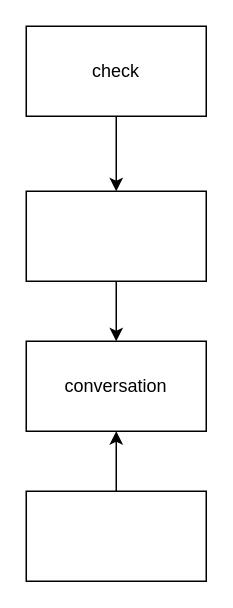
Some shapes in this 233 by 608 pixel diagram are drawn without their labels. The shapes that lost their labels are listed below. From the top down, each one's centre as x and y in pixels, then its label:
At [115,235]: "bot".
At [115,535]: "config".
